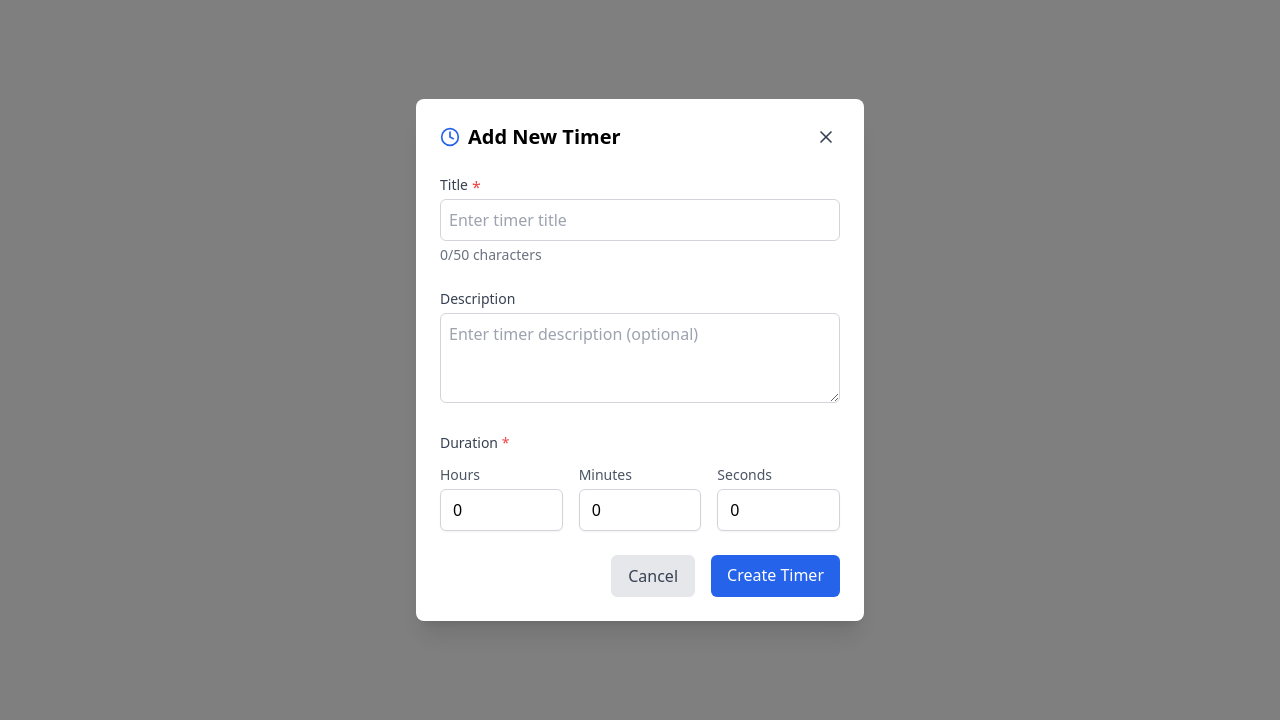
Test: TimerModal Component › validates the form and shows error messages
Step 1. Click the button "Create Timer" → (776, 576), box top-left (711, 555), bottom-right (840, 597)
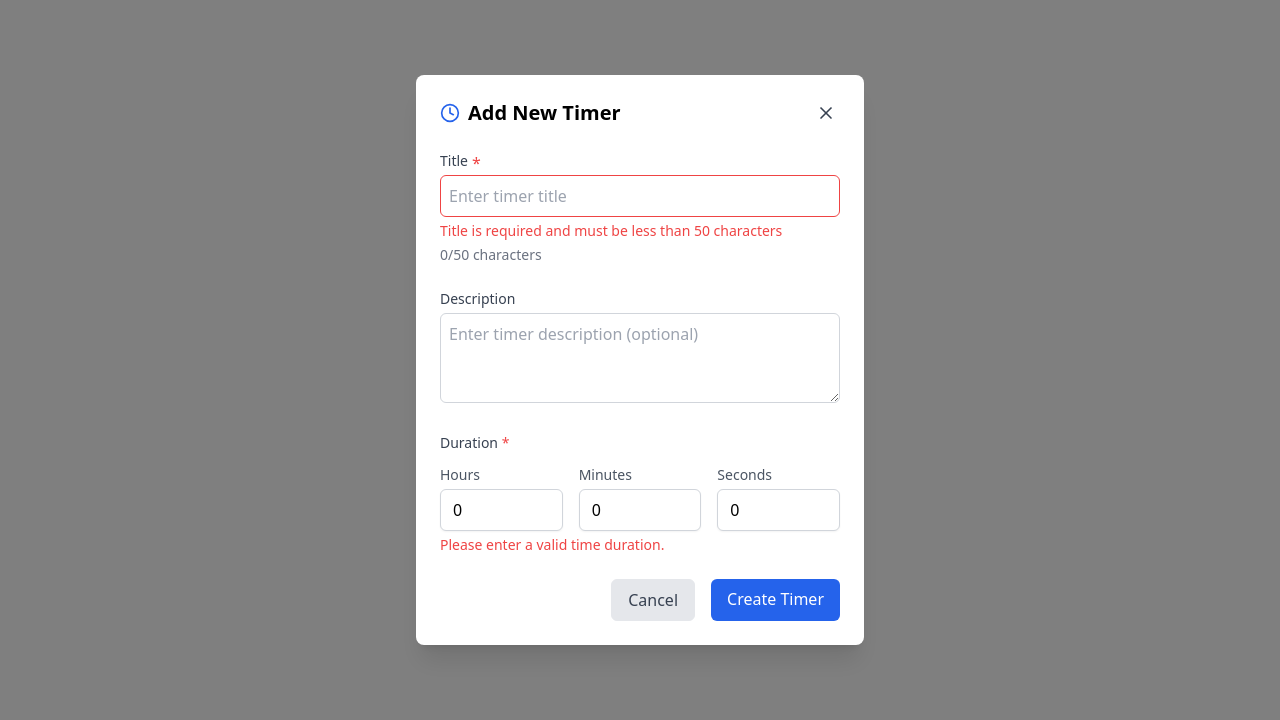
Expected: the text "Title is required and must be less than 50 characters" is shown, top-left (440, 221), bottom-right (840, 241)
Expected: the text "Please enter a valid time duration." is shown, top-left (440, 535), bottom-right (664, 554)
